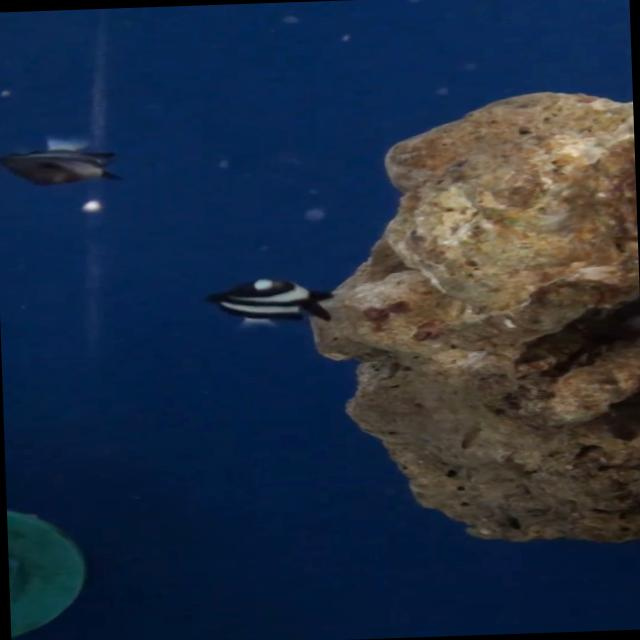ThreeStripedDamselfish: (200, 272, 338, 332)
